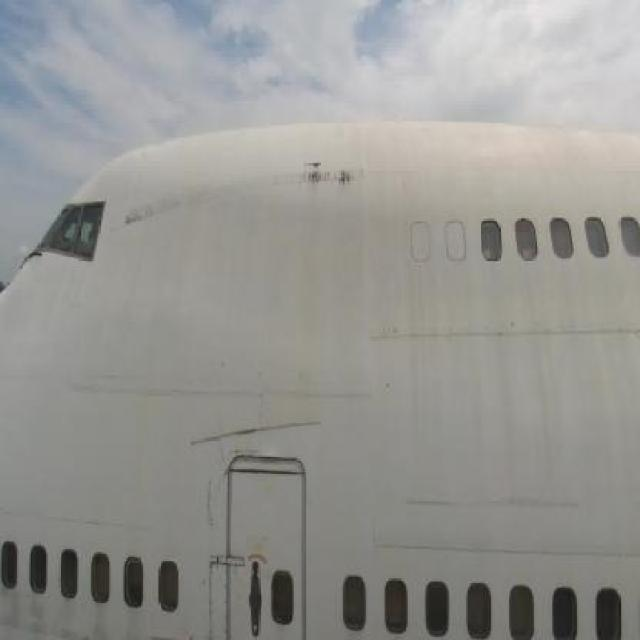Rust: (297, 143, 368, 200)
Scartch: (122, 196, 170, 238), (198, 468, 216, 538), (235, 417, 270, 443), (221, 446, 239, 494)
